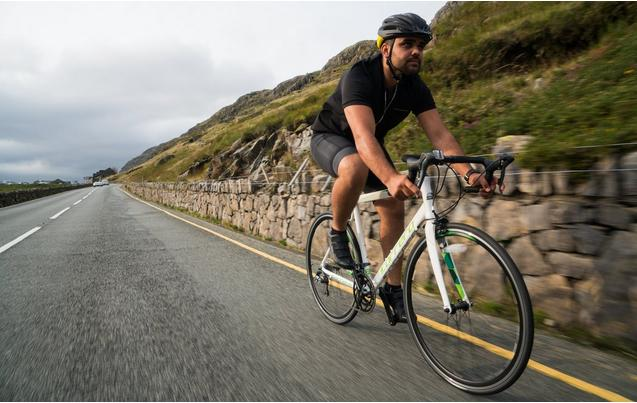helmet: (379, 9, 433, 40)
